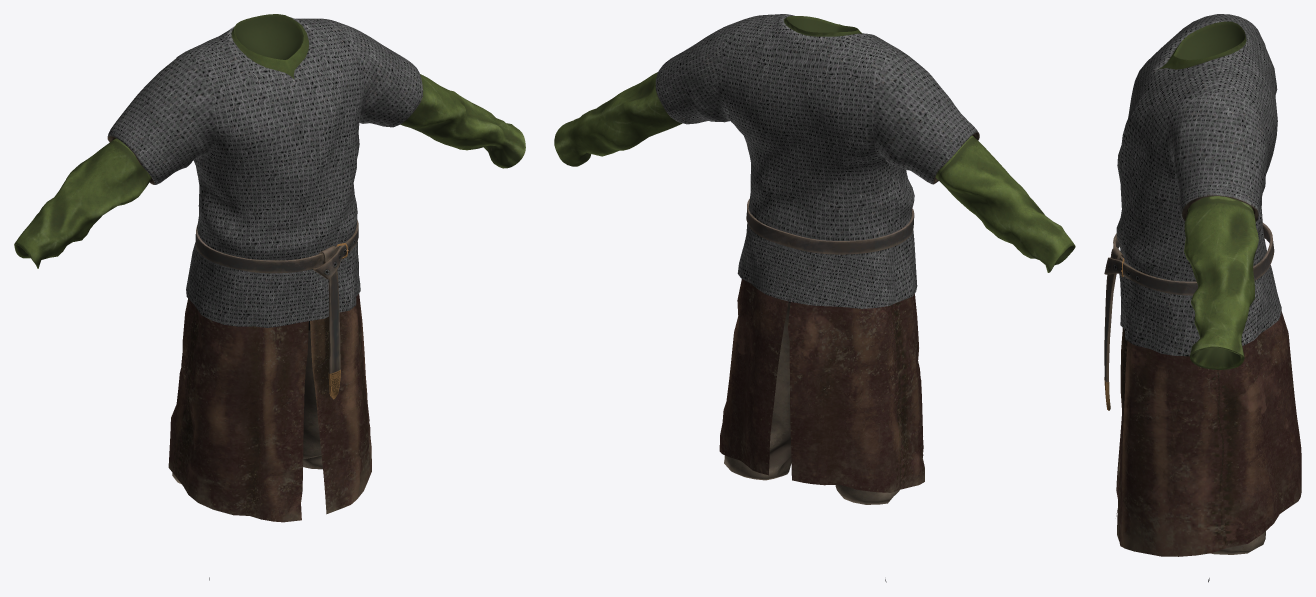
File: cts_rohan_armor3333.fbx
3 views of the same model, side by side, from view 1: azimuth 30°, elevation 25°; view 2: azimuth 150°, elevation 25°; view 3: azimuth 270°, elevation 25° (orthographic). The views are drawn at different scales.
Parts seen in each view (by area): view 1: cts_rohan_armor3333; view 2: cts_rohan_armor3333; view 3: cts_rohan_armor3333.
Boxes of the visible parts, bbox=[...] form: cts_rohan_armor3333: bbox=[14, 14, 525, 580]; cts_rohan_armor3333: bbox=[554, 14, 1075, 582]; cts_rohan_armor3333: bbox=[1104, 14, 1301, 582].
Size of the model in its own units: 1.36 by 0.4323 by 1.4.
1 material, 1 textured.
